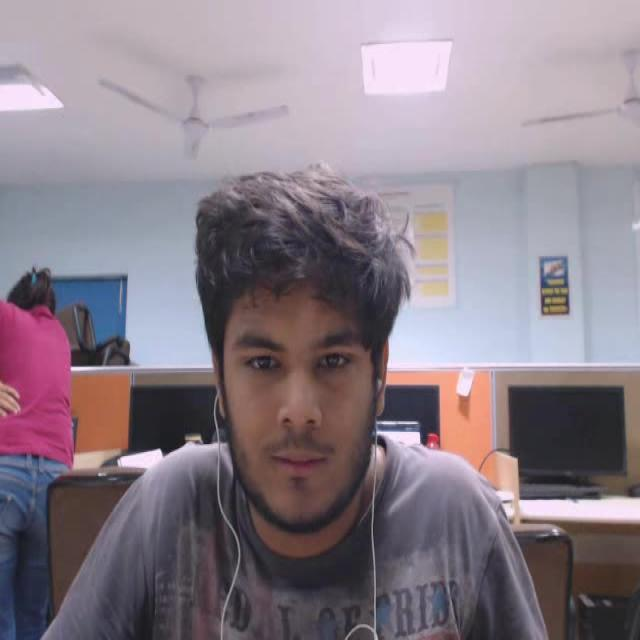Engaged: (168, 139, 428, 580)
